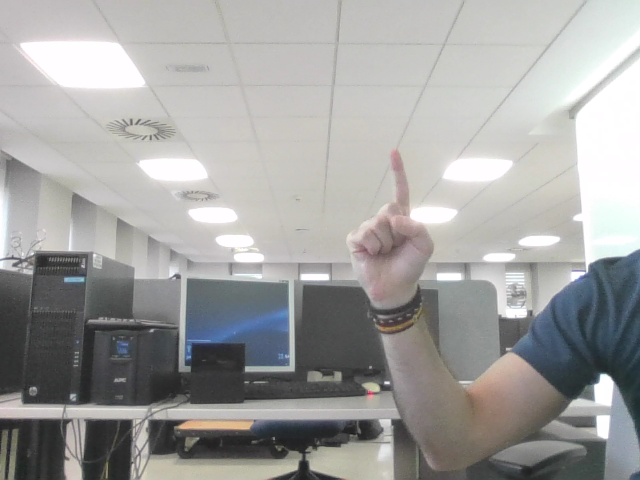1Dedo: (359, 161, 422, 267)
